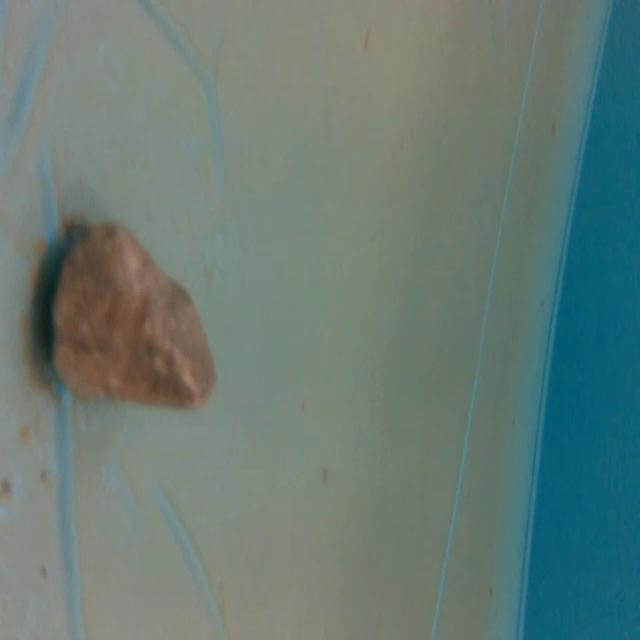rock: (39, 211, 222, 413)
